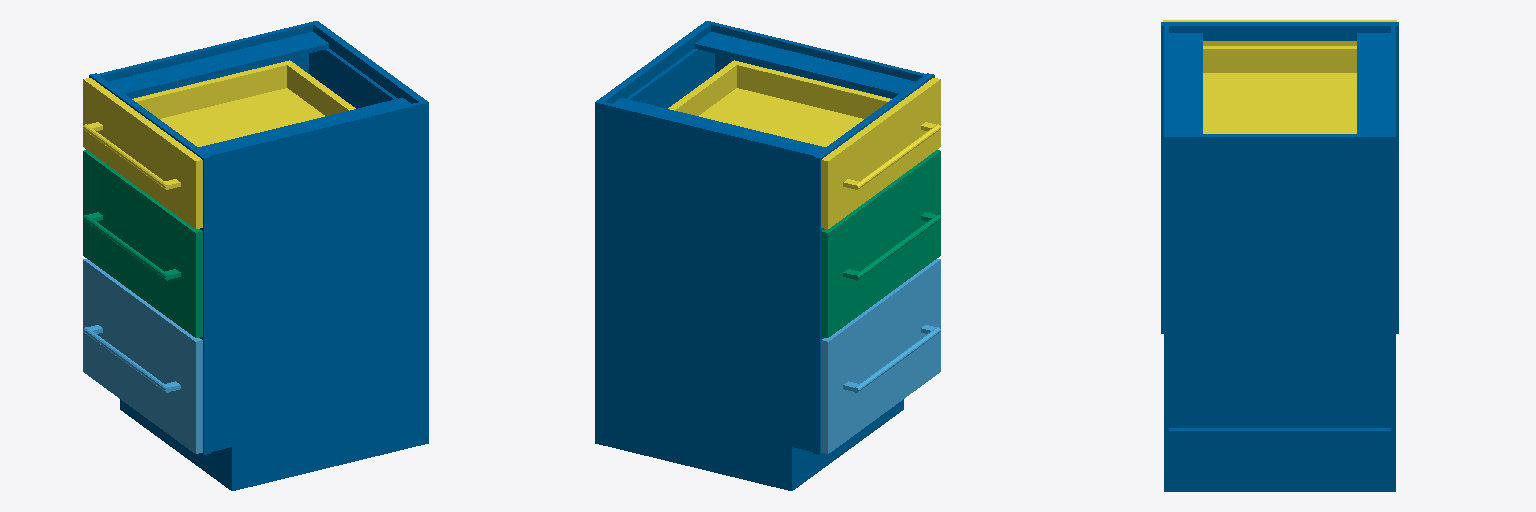
The robot description file, URDF, robot "partnet_57dc5950f0a7304d4da5feafe6f1c8fc":
<?xml version="1.0" ?>
<robot name="partnet_57dc5950f0a7304d4da5feafe6f1c8fc">
	<link name="base"/>
	<link name="link_0">
		<visual name="drawer_front-23">
			<origin xyz="0 0 0"/>
			<geometry>
				<mesh filename="textured_objs/original-26.obj"/>
			</geometry>
		</visual>
		<visual name="drawer_front-23">
			<origin xyz="0 0 0"/>
			<geometry>
				<mesh filename="textured_objs/original-34.obj"/>
			</geometry>
		</visual>
		<visual name="drawer_side-24">
			<origin xyz="0 0 0"/>
			<geometry>
				<mesh filename="textured_objs/original-25.obj"/>
			</geometry>
		</visual>
		<visual name="drawer_side-25">
			<origin xyz="0 0 0"/>
			<geometry>
				<mesh filename="textured_objs/original-30.obj"/>
			</geometry>
		</visual>
		<visual name="drawer_side-25">
			<origin xyz="0 0 0"/>
			<geometry>
				<mesh filename="textured_objs/original-32.obj"/>
			</geometry>
		</visual>
		<visual name="drawer_back-26">
			<origin xyz="0 0 0"/>
			<geometry>
				<mesh filename="textured_objs/original-31.obj"/>
			</geometry>
		</visual>
		<visual name="drawer_bottom-27">
			<origin xyz="0 0 0"/>
			<geometry>
				<mesh filename="textured_objs/original-29.obj"/>
			</geometry>
		</visual>
		<visual name="drawer_bottom-27">
			<origin xyz="0 0 0"/>
			<geometry>
				<mesh filename="textured_objs/original-28.obj"/>
			</geometry>
		</visual>
		<visual name="handle-22">
			<origin xyz="0 0 0"/>
			<geometry>
				<mesh filename="textured_objs/original-37.obj"/>
			</geometry>
		</visual>
		<visual name="handle-22">
			<origin xyz="0 0 0"/>
			<geometry>
				<mesh filename="textured_objs/original-36.obj"/>
			</geometry>
		</visual>
		<visual name="handle-22">
			<origin xyz="0 0 0"/>
			<geometry>
				<mesh filename="textured_objs/original-38.obj"/>
			</geometry>
		</visual>
		<collision>
			<origin xyz="0 0 0"/>
			<geometry>
				<mesh filename="textured_objs/original-26.obj"/>
			</geometry>
		</collision>
		<collision>
			<origin xyz="0 0 0"/>
			<geometry>
				<mesh filename="textured_objs/original-34.obj"/>
			</geometry>
		</collision>
		<collision>
			<origin xyz="0 0 0"/>
			<geometry>
				<mesh filename="textured_objs/original-25.obj"/>
			</geometry>
		</collision>
		<collision>
			<origin xyz="0 0 0"/>
			<geometry>
				<mesh filename="textured_objs/original-30.obj"/>
			</geometry>
		</collision>
		<collision>
			<origin xyz="0 0 0"/>
			<geometry>
				<mesh filename="textured_objs/original-32.obj"/>
			</geometry>
		</collision>
		<collision>
			<origin xyz="0 0 0"/>
			<geometry>
				<mesh filename="textured_objs/original-31.obj"/>
			</geometry>
		</collision>
		<collision>
			<origin xyz="0 0 0"/>
			<geometry>
				<mesh filename="textured_objs/original-29.obj"/>
			</geometry>
		</collision>
		<collision>
			<origin xyz="0 0 0"/>
			<geometry>
				<mesh filename="textured_objs/original-28.obj"/>
			</geometry>
		</collision>
		<collision>
			<origin xyz="0 0 0"/>
			<geometry>
				<mesh filename="textured_objs/original-37.obj"/>
			</geometry>
		</collision>
		<collision>
			<origin xyz="0 0 0"/>
			<geometry>
				<mesh filename="textured_objs/original-36.obj"/>
			</geometry>
		</collision>
		<collision>
			<origin xyz="0 0 0"/>
			<geometry>
				<mesh filename="textured_objs/original-38.obj"/>
			</geometry>
		</collision>
	</link>
	<joint name="joint_0" type="prismatic">
		<origin xyz="0 0 0"/>
		<axis xyz="0 0 1"/>
		<child link="link_0"/>
		<parent link="link_3"/>
		<limit lower="0" upper="0.7"/>
	</joint>
	<link name="link_1">
		<visual name="drawer_front-16">
			<origin xyz="0 0 0"/>
			<geometry>
				<mesh filename="textured_objs/original-42.obj"/>
			</geometry>
		</visual>
		<visual name="drawer_front-16">
			<origin xyz="0 0 0"/>
			<geometry>
				<mesh filename="textured_objs/original-50.obj"/>
			</geometry>
		</visual>
		<visual name="drawer_side-17">
			<origin xyz="0 0 0"/>
			<geometry>
				<mesh filename="textured_objs/original-41.obj"/>
			</geometry>
		</visual>
		<visual name="drawer_side-18">
			<origin xyz="0 0 0"/>
			<geometry>
				<mesh filename="textured_objs/original-46.obj"/>
			</geometry>
		</visual>
		<visual name="drawer_side-18">
			<origin xyz="0 0 0"/>
			<geometry>
				<mesh filename="textured_objs/original-48.obj"/>
			</geometry>
		</visual>
		<visual name="drawer_back-19">
			<origin xyz="0 0 0"/>
			<geometry>
				<mesh filename="textured_objs/original-47.obj"/>
			</geometry>
		</visual>
		<visual name="drawer_bottom-20">
			<origin xyz="0 0 0"/>
			<geometry>
				<mesh filename="textured_objs/original-45.obj"/>
			</geometry>
		</visual>
		<visual name="drawer_bottom-20">
			<origin xyz="0 0 0"/>
			<geometry>
				<mesh filename="textured_objs/original-44.obj"/>
			</geometry>
		</visual>
		<visual name="handle-15">
			<origin xyz="0 0 0"/>
			<geometry>
				<mesh filename="textured_objs/original-52.obj"/>
			</geometry>
		</visual>
		<visual name="handle-15">
			<origin xyz="0 0 0"/>
			<geometry>
				<mesh filename="textured_objs/original-53.obj"/>
			</geometry>
		</visual>
		<visual name="handle-15">
			<origin xyz="0 0 0"/>
			<geometry>
				<mesh filename="textured_objs/original-54.obj"/>
			</geometry>
		</visual>
		<collision>
			<origin xyz="0 0 0"/>
			<geometry>
				<mesh filename="textured_objs/original-42.obj"/>
			</geometry>
		</collision>
		<collision>
			<origin xyz="0 0 0"/>
			<geometry>
				<mesh filename="textured_objs/original-50.obj"/>
			</geometry>
		</collision>
		<collision>
			<origin xyz="0 0 0"/>
			<geometry>
				<mesh filename="textured_objs/original-41.obj"/>
			</geometry>
		</collision>
		<collision>
			<origin xyz="0 0 0"/>
			<geometry>
				<mesh filename="textured_objs/original-46.obj"/>
			</geometry>
		</collision>
		<collision>
			<origin xyz="0 0 0"/>
			<geometry>
				<mesh filename="textured_objs/original-48.obj"/>
			</geometry>
		</collision>
		<collision>
			<origin xyz="0 0 0"/>
			<geometry>
				<mesh filename="textured_objs/original-47.obj"/>
			</geometry>
		</collision>
		<collision>
			<origin xyz="0 0 0"/>
			<geometry>
				<mesh filename="textured_objs/original-45.obj"/>
			</geometry>
		</collision>
		<collision>
			<origin xyz="0 0 0"/>
			<geometry>
				<mesh filename="textured_objs/original-44.obj"/>
			</geometry>
		</collision>
		<collision>
			<origin xyz="0 0 0"/>
			<geometry>
				<mesh filename="textured_objs/original-52.obj"/>
			</geometry>
		</collision>
		<collision>
			<origin xyz="0 0 0"/>
			<geometry>
				<mesh filename="textured_objs/original-53.obj"/>
			</geometry>
		</collision>
		<collision>
			<origin xyz="0 0 0"/>
			<geometry>
				<mesh filename="textured_objs/original-54.obj"/>
			</geometry>
		</collision>
	</link>
	<joint name="joint_1" type="prismatic">
		<origin xyz="0 0 0"/>
		<axis xyz="0 0 1"/>
		<child link="link_1"/>
		<parent link="link_3"/>
		<limit lower="0" upper="0.7"/>
	</joint>
	<link name="link_2">
		<visual name="drawer_front-9">
			<origin xyz="0 0 0"/>
			<geometry>
				<mesh filename="textured_objs/original-58.obj"/>
			</geometry>
		</visual>
		<visual name="drawer_front-9">
			<origin xyz="0 0 0"/>
			<geometry>
				<mesh filename="textured_objs/original-66.obj"/>
			</geometry>
		</visual>
		<visual name="drawer_side-10">
			<origin xyz="0 0 0"/>
			<geometry>
				<mesh filename="textured_objs/original-57.obj"/>
			</geometry>
		</visual>
		<visual name="drawer_side-11">
			<origin xyz="0 0 0"/>
			<geometry>
				<mesh filename="textured_objs/original-62.obj"/>
			</geometry>
		</visual>
		<visual name="drawer_side-11">
			<origin xyz="0 0 0"/>
			<geometry>
				<mesh filename="textured_objs/original-64.obj"/>
			</geometry>
		</visual>
		<visual name="drawer_back-12">
			<origin xyz="0 0 0"/>
			<geometry>
				<mesh filename="textured_objs/original-63.obj"/>
			</geometry>
		</visual>
		<visual name="drawer_bottom-13">
			<origin xyz="0 0 0"/>
			<geometry>
				<mesh filename="textured_objs/original-61.obj"/>
			</geometry>
		</visual>
		<visual name="drawer_bottom-13">
			<origin xyz="0 0 0"/>
			<geometry>
				<mesh filename="textured_objs/original-60.obj"/>
			</geometry>
		</visual>
		<visual name="handle-8">
			<origin xyz="0 0 0"/>
			<geometry>
				<mesh filename="textured_objs/original-68.obj"/>
			</geometry>
		</visual>
		<visual name="handle-8">
			<origin xyz="0 0 0"/>
			<geometry>
				<mesh filename="textured_objs/original-69.obj"/>
			</geometry>
		</visual>
		<visual name="handle-8">
			<origin xyz="0 0 0"/>
			<geometry>
				<mesh filename="textured_objs/original-70.obj"/>
			</geometry>
		</visual>
		<collision>
			<origin xyz="0 0 0"/>
			<geometry>
				<mesh filename="textured_objs/original-58.obj"/>
			</geometry>
		</collision>
		<collision>
			<origin xyz="0 0 0"/>
			<geometry>
				<mesh filename="textured_objs/original-66.obj"/>
			</geometry>
		</collision>
		<collision>
			<origin xyz="0 0 0"/>
			<geometry>
				<mesh filename="textured_objs/original-57.obj"/>
			</geometry>
		</collision>
		<collision>
			<origin xyz="0 0 0"/>
			<geometry>
				<mesh filename="textured_objs/original-62.obj"/>
			</geometry>
		</collision>
		<collision>
			<origin xyz="0 0 0"/>
			<geometry>
				<mesh filename="textured_objs/original-64.obj"/>
			</geometry>
		</collision>
		<collision>
			<origin xyz="0 0 0"/>
			<geometry>
				<mesh filename="textured_objs/original-63.obj"/>
			</geometry>
		</collision>
		<collision>
			<origin xyz="0 0 0"/>
			<geometry>
				<mesh filename="textured_objs/original-61.obj"/>
			</geometry>
		</collision>
		<collision>
			<origin xyz="0 0 0"/>
			<geometry>
				<mesh filename="textured_objs/original-60.obj"/>
			</geometry>
		</collision>
		<collision>
			<origin xyz="0 0 0"/>
			<geometry>
				<mesh filename="textured_objs/original-68.obj"/>
			</geometry>
		</collision>
		<collision>
			<origin xyz="0 0 0"/>
			<geometry>
				<mesh filename="textured_objs/original-69.obj"/>
			</geometry>
		</collision>
		<collision>
			<origin xyz="0 0 0"/>
			<geometry>
				<mesh filename="textured_objs/original-70.obj"/>
			</geometry>
		</collision>
	</link>
	<joint name="joint_2" type="prismatic">
		<origin xyz="0 0 0"/>
		<axis xyz="0 0 1"/>
		<child link="link_2"/>
		<parent link="link_3"/>
		<limit lower="0" upper="0.7"/>
	</joint>
	<link name="link_3">
		<visual name="vertical_side_panel-33">
			<origin xyz="0 0 0"/>
			<geometry>
				<mesh filename="textured_objs/original-11.obj"/>
			</geometry>
		</visual>
		<visual name="vertical_side_panel-33">
			<origin xyz="0 0 0"/>
			<geometry>
				<mesh filename="textured_objs/original-10.obj"/>
			</geometry>
		</visual>
		<visual name="vertical_side_panel-34">
			<origin xyz="0 0 0"/>
			<geometry>
				<mesh filename="textured_objs/original-15.obj"/>
			</geometry>
		</visual>
		<visual name="vertical_side_panel-34">
			<origin xyz="0 0 0"/>
			<geometry>
				<mesh filename="textured_objs/original-14.obj"/>
			</geometry>
		</visual>
		<visual name="back_panel-35">
			<origin xyz="0 0 0"/>
			<geometry>
				<mesh filename="textured_objs/original-5.obj"/>
			</geometry>
		</visual>
		<visual name="bottom_panel-36">
			<origin xyz="0 0 0"/>
			<geometry>
				<mesh filename="textured_objs/original-2.obj"/>
			</geometry>
		</visual>
		<visual name="frame_vertical_bar-37">
			<origin xyz="0 0 0"/>
			<geometry>
				<mesh filename="textured_objs/original-3.obj"/>
			</geometry>
		</visual>
		<visual name="frame_vertical_bar-38">
			<origin xyz="0 0 0"/>
			<geometry>
				<mesh filename="textured_objs/original-7.obj"/>
			</geometry>
		</visual>
		<visual name="frame_horizontal_bar-39">
			<origin xyz="0 0 0"/>
			<geometry>
				<mesh filename="textured_objs/original-21.obj"/>
			</geometry>
		</visual>
		<visual name="frame_horizontal_bar-40">
			<origin xyz="0 0 0"/>
			<geometry>
				<mesh filename="textured_objs/original-20.obj"/>
			</geometry>
		</visual>
		<visual name="frame_horizontal_bar-41">
			<origin xyz="0 0 0"/>
			<geometry>
				<mesh filename="textured_objs/original-8.obj"/>
			</geometry>
		</visual>
		<visual name="frame_horizontal_bar-42">
			<origin xyz="0 0 0"/>
			<geometry>
				<mesh filename="textured_objs/original-22.obj"/>
			</geometry>
		</visual>
		<visual name="frame_horizontal_bar-43">
			<origin xyz="0 0 0"/>
			<geometry>
				<mesh filename="textured_objs/original-17.obj"/>
			</geometry>
		</visual>
		<visual name="frame_horizontal_bar-44">
			<origin xyz="0 0 0"/>
			<geometry>
				<mesh filename="textured_objs/original-6.obj"/>
			</geometry>
		</visual>
		<visual name="frame_horizontal_bar-45">
			<origin xyz="0 0 0"/>
			<geometry>
				<mesh filename="textured_objs/original-4.obj"/>
			</geometry>
		</visual>
		<visual name="other_leaf-47">
			<origin xyz="0 0 0"/>
			<geometry>
				<mesh filename="textured_objs/original-71.obj"/>
			</geometry>
		</visual>
		<visual name="base_side_panel-29">
			<origin xyz="0 0 0"/>
			<geometry>
				<mesh filename="textured_objs/original-16.obj"/>
			</geometry>
		</visual>
		<visual name="base_side_panel-30">
			<origin xyz="0 0 0"/>
			<geometry>
				<mesh filename="textured_objs/original-18.obj"/>
			</geometry>
		</visual>
		<visual name="base_side_panel-31">
			<origin xyz="0 0 0"/>
			<geometry>
				<mesh filename="textured_objs/original-12.obj"/>
			</geometry>
		</visual>
		<visual name="base_side_panel-32">
			<origin xyz="0 0 0"/>
			<geometry>
				<mesh filename="textured_objs/original-19.obj"/>
			</geometry>
		</visual>
		<collision>
			<origin xyz="0 0 0"/>
			<geometry>
				<mesh filename="textured_objs/original-11.obj"/>
			</geometry>
		</collision>
		<collision>
			<origin xyz="0 0 0"/>
			<geometry>
				<mesh filename="textured_objs/original-10.obj"/>
			</geometry>
		</collision>
		<collision>
			<origin xyz="0 0 0"/>
			<geometry>
				<mesh filename="textured_objs/original-15.obj"/>
			</geometry>
		</collision>
		<collision>
			<origin xyz="0 0 0"/>
			<geometry>
				<mesh filename="textured_objs/original-14.obj"/>
			</geometry>
		</collision>
		<collision>
			<origin xyz="0 0 0"/>
			<geometry>
				<mesh filename="textured_objs/original-5.obj"/>
			</geometry>
		</collision>
		<collision>
			<origin xyz="0 0 0"/>
			<geometry>
				<mesh filename="textured_objs/original-2.obj"/>
			</geometry>
		</collision>
		<collision>
			<origin xyz="0 0 0"/>
			<geometry>
				<mesh filename="textured_objs/original-3.obj"/>
			</geometry>
		</collision>
		<collision>
			<origin xyz="0 0 0"/>
			<geometry>
				<mesh filename="textured_objs/original-7.obj"/>
			</geometry>
		</collision>
		<collision>
			<origin xyz="0 0 0"/>
			<geometry>
				<mesh filename="textured_objs/original-21.obj"/>
			</geometry>
		</collision>
		<collision>
			<origin xyz="0 0 0"/>
			<geometry>
				<mesh filename="textured_objs/original-20.obj"/>
			</geometry>
		</collision>
		<collision>
			<origin xyz="0 0 0"/>
			<geometry>
				<mesh filename="textured_objs/original-8.obj"/>
			</geometry>
		</collision>
		<collision>
			<origin xyz="0 0 0"/>
			<geometry>
				<mesh filename="textured_objs/original-22.obj"/>
			</geometry>
		</collision>
		<collision>
			<origin xyz="0 0 0"/>
			<geometry>
				<mesh filename="textured_objs/original-17.obj"/>
			</geometry>
		</collision>
		<collision>
			<origin xyz="0 0 0"/>
			<geometry>
				<mesh filename="textured_objs/original-6.obj"/>
			</geometry>
		</collision>
		<collision>
			<origin xyz="0 0 0"/>
			<geometry>
				<mesh filename="textured_objs/original-4.obj"/>
			</geometry>
		</collision>
		<collision>
			<origin xyz="0 0 0"/>
			<geometry>
				<mesh filename="textured_objs/original-71.obj"/>
			</geometry>
		</collision>
		<collision>
			<origin xyz="0 0 0"/>
			<geometry>
				<mesh filename="textured_objs/original-16.obj"/>
			</geometry>
		</collision>
		<collision>
			<origin xyz="0 0 0"/>
			<geometry>
				<mesh filename="textured_objs/original-18.obj"/>
			</geometry>
		</collision>
		<collision>
			<origin xyz="0 0 0"/>
			<geometry>
				<mesh filename="textured_objs/original-12.obj"/>
			</geometry>
		</collision>
		<collision>
			<origin xyz="0 0 0"/>
			<geometry>
				<mesh filename="textured_objs/original-19.obj"/>
			</geometry>
		</collision>
	</link>
	<joint name="joint_3" type="fixed">
		<origin rpy="1.570796326794897 0 -1.570796326794897" xyz="0 0 0"/>
		<child link="link_3"/>
		<parent link="base"/>
	</joint>
</robot>

--- What the picture shows (computed from the rendered views, not written in the file) ---
3 views of the same robot in one strip: view 1: azimuth 30°, elevation 25°; view 2: azimuth 150°, elevation 25°; view 3: azimuth 270°, elevation 25° (orthographic).
Model partnet_57dc5950f0a7304d4da5feafe6f1c8fc with 5 links and 4 joints (3 prismatic, 1 fixed), rooted at base, posed every joint at zero.
Visible links, largest first — view 1: link_3, link_2, link_0, link_1; view 2: link_3, link_2, link_0, link_1; view 3: link_3, link_2.
Boxes of the visible links, x1,y1,x2,y2 form: link_3: (89, 21, 428, 490); link_2: (83, 60, 355, 228); link_0: (83, 259, 202, 453); link_1: (83, 150, 202, 337); link_3: (595, 21, 934, 490); link_2: (668, 60, 940, 228); link_0: (821, 259, 940, 453); link_1: (821, 150, 940, 337); link_3: (1161, 22, 1398, 491); link_2: (1163, 20, 1396, 133).
Bounding box of the posed robot: 1.12 × 0.8903 × 1.46 m (x, y, z).
Meshes: 53 distinct files referenced, 53 mesh visuals loaded (53 OBJ).